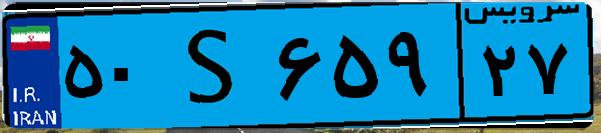0: (110, 28, 158, 98)
2: (475, 38, 525, 113)
5: (330, 28, 385, 110), (57, 26, 110, 100)
6: (270, 28, 330, 110)
7: (525, 38, 570, 115)
9: (385, 28, 445, 110)
S: (158, 12, 270, 120)
